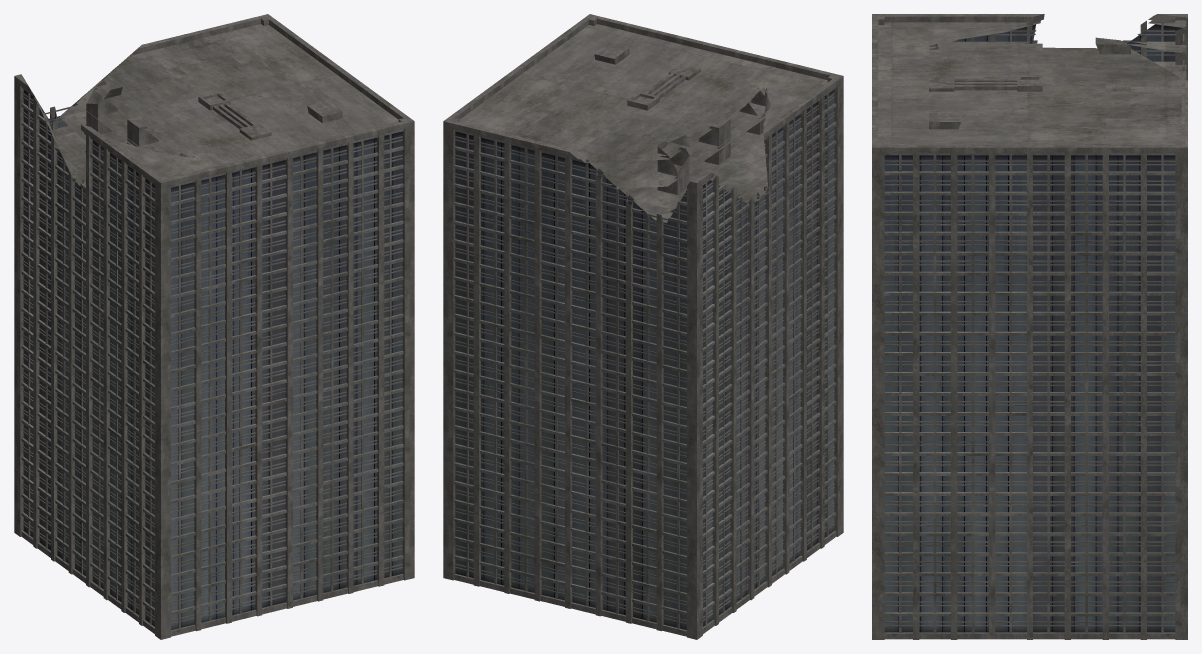
The model's file is tower_majadroid_base.glb.
3 views of the same model, side by side, from view 1: azimuth 30°, elevation 25°; view 2: azimuth 150°, elevation 25°; view 3: azimuth 270°, elevation 25° (orthographic). The views are drawn at different scales.
Visible parts, largest first — view 1: tower_majadroid_base; view 2: tower_majadroid_base; view 3: tower_majadroid_base.
Boxes of the visible parts, <box> form: tower_majadroid_base: <box>14,14,414,639</box>; tower_majadroid_base: <box>443,14,843,639</box>; tower_majadroid_base: <box>872,14,1187,639</box>.
Bounding box in the file's own units: 50 × 86.79 × 50.
Materials: 2 (2 with a texture image).
